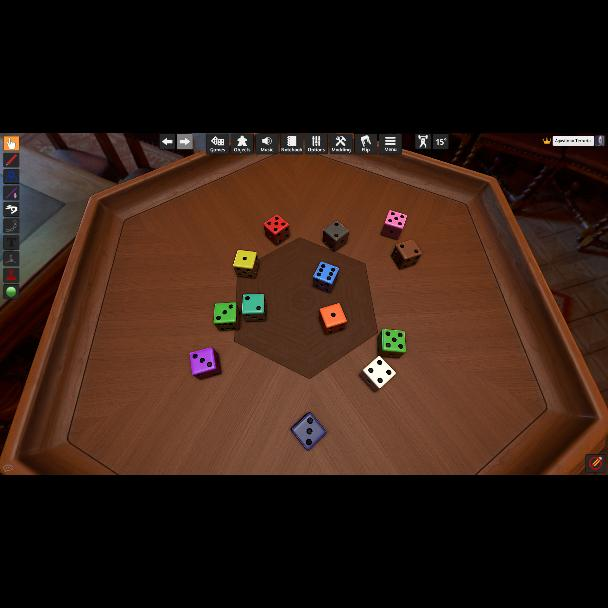d6: (360, 356, 396, 392), (297, 414, 327, 450), (190, 346, 220, 380), (378, 328, 406, 358), (392, 240, 420, 270), (263, 214, 289, 246), (381, 210, 407, 242), (312, 261, 338, 293), (322, 221, 348, 252), (319, 304, 345, 334), (233, 250, 259, 280), (213, 302, 239, 330), (241, 294, 266, 322)
